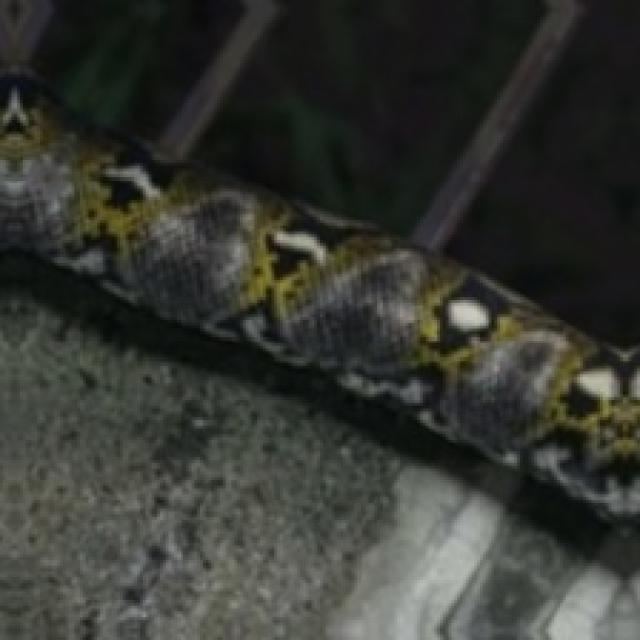reticulated python: (0, 77, 639, 518)
